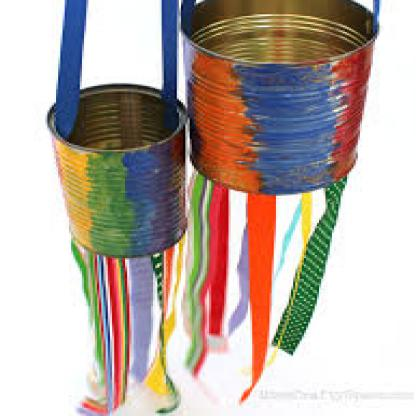METAL: (179, 0, 376, 195), (43, 81, 185, 257)
